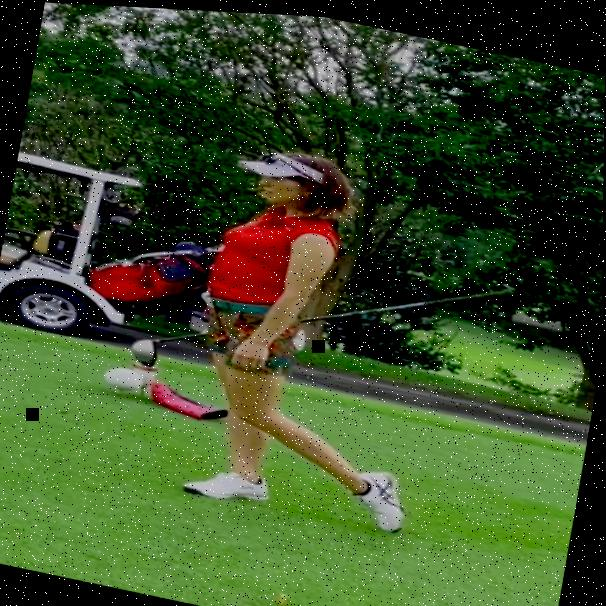ClubHead: (129, 333, 160, 367)
